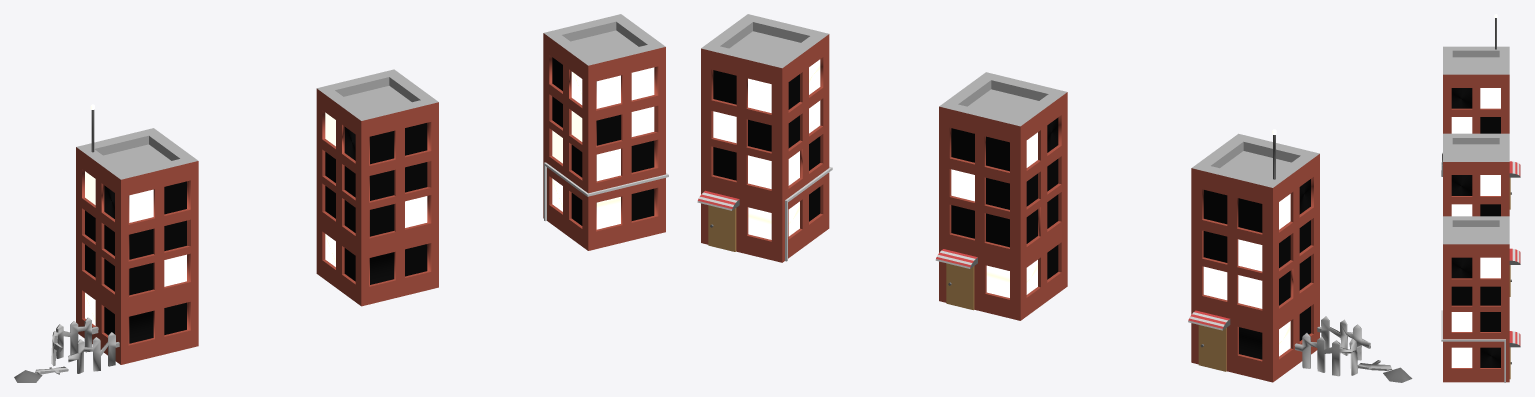
File: bHouses2.glb
3 renders of one model, left to right at view 1: azimuth 30°, elevation 25°; view 2: azimuth 150°, elevation 25°; view 3: azimuth 270°, elevation 25°, orthographic. The views are drawn at different scales.
Visible parts, largest first — view 1: Cube.001; view 2: Cube.001; view 3: Cube.001.
Part boxes in pixels (x1,y1,x2,y2): Cube.001: (14,14,668,382); Cube.001: (697,14,1412,382); Cube.001: (1441,14,1520,382).
Size of the model in its own units: 33.59 by 11.6 by 4.83.
